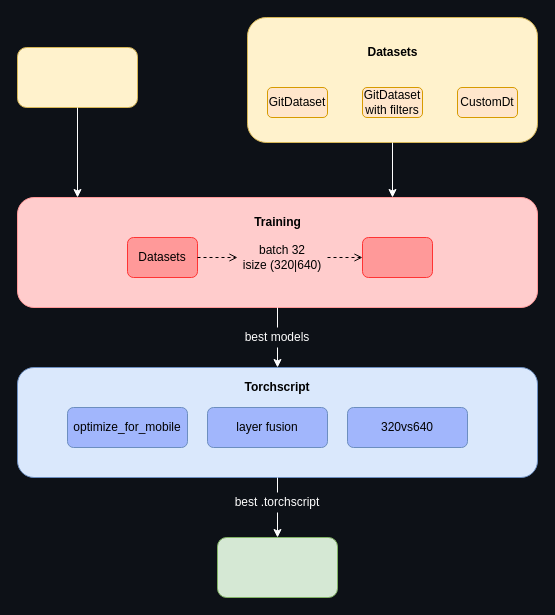
This 555x615 diagram has some shape labels left out. Here are the shapes that lost their labels. From the top down, the centre of each, then its label:
(77,77): YOLOv5s
(397,257): model.pt
(277,567): Android App
